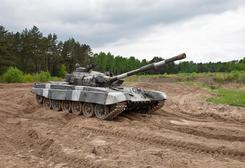t72: (34, 52, 187, 117)
